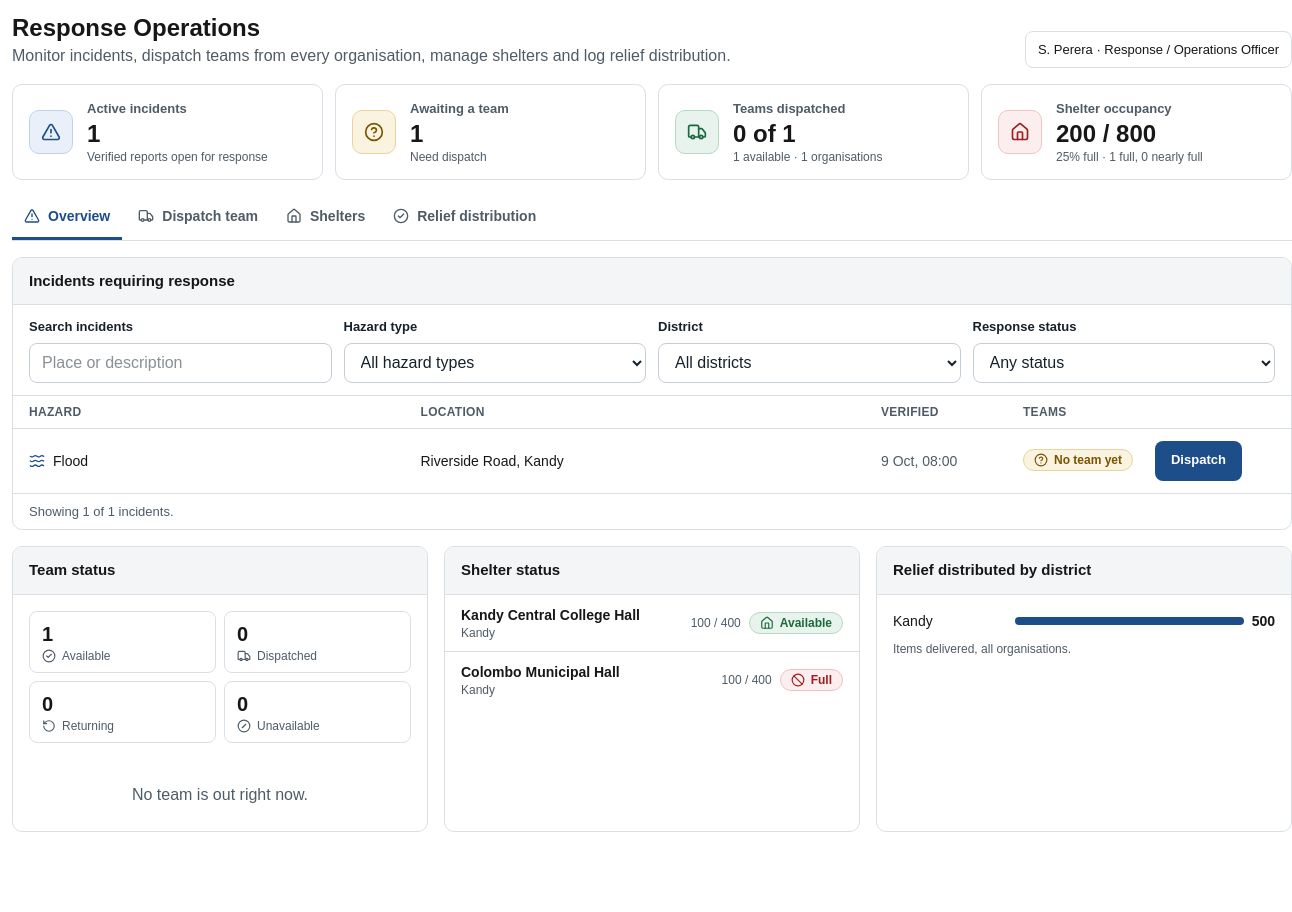
Test: Shelters tab › filters the shelter list by status
expect the text "Active incidents" is shown: met, box [87,101,187,116]
Click the tab "Shelters": (326, 218) [274,196,377,240]
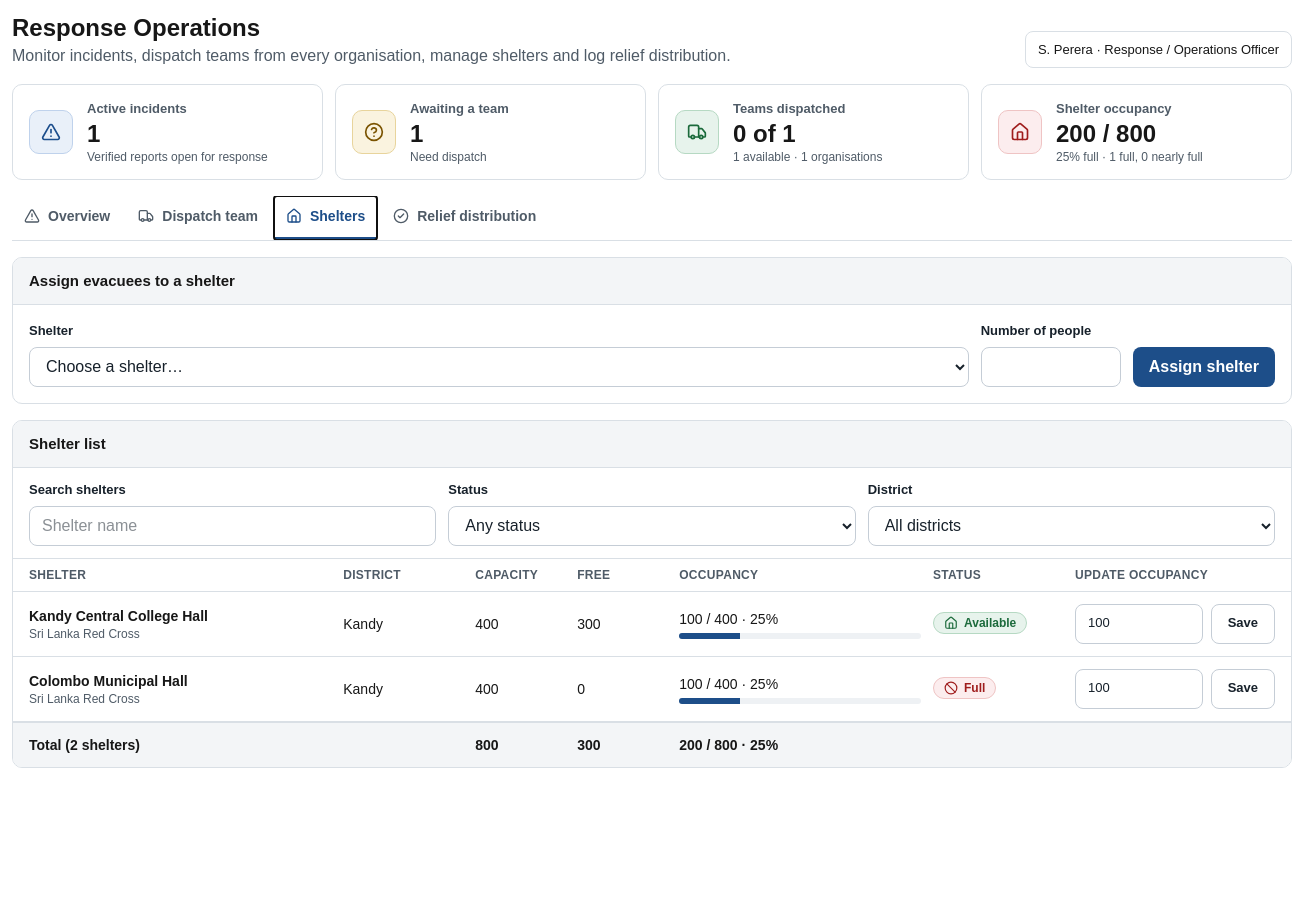
Select "Full" in the dropdown labelled "Status": (652, 526) [448,506,856,546]
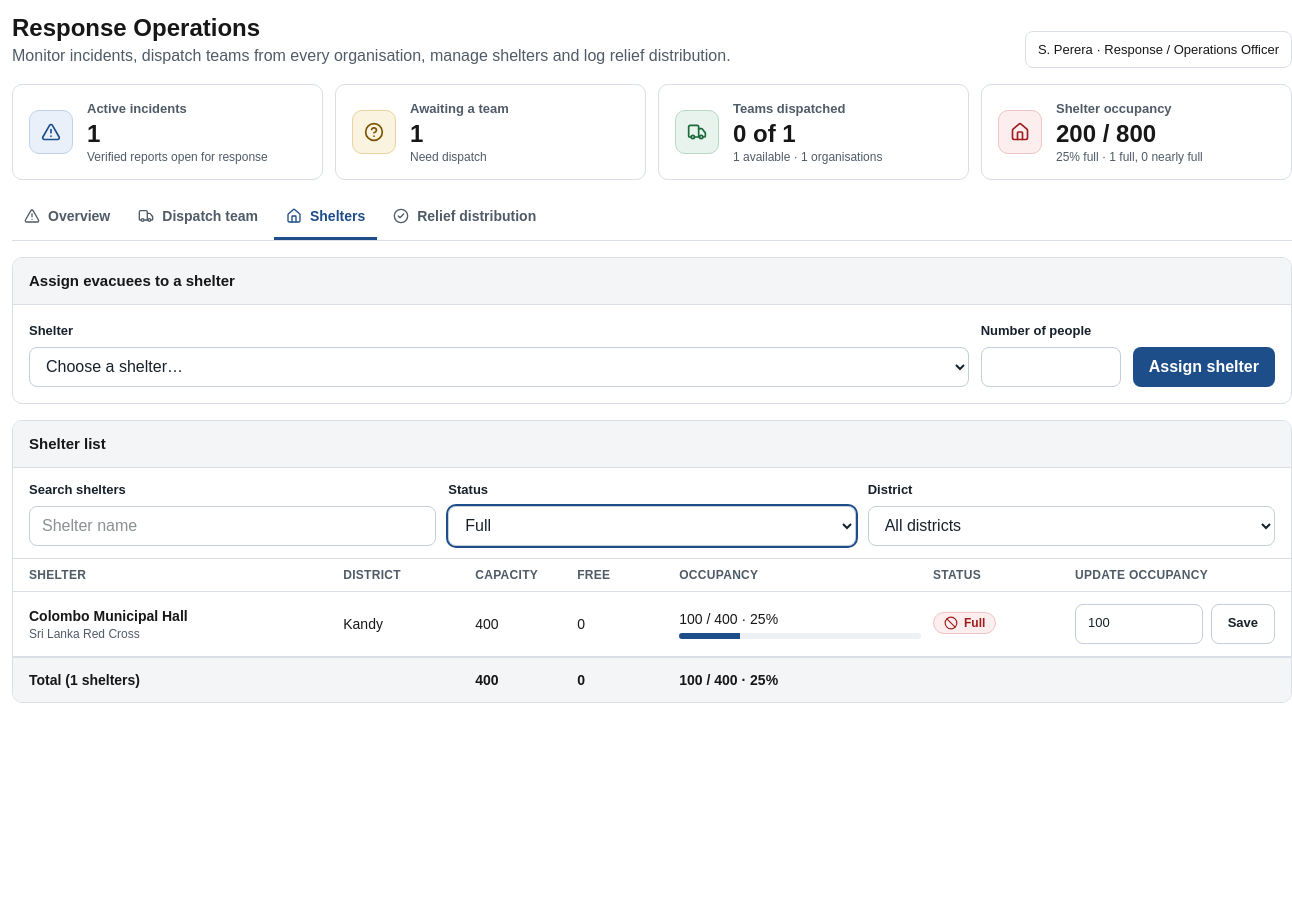
expect the text "Colombo Municipal Hall" is shown: met, box [29,608,188,624]
expect the text "Kandy Central College Hall" is gone: met
